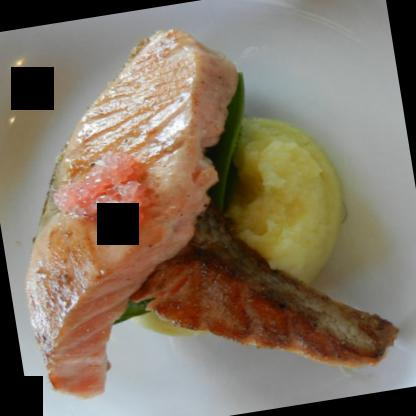salmon: (0, 13, 279, 402), (116, 188, 409, 394)
